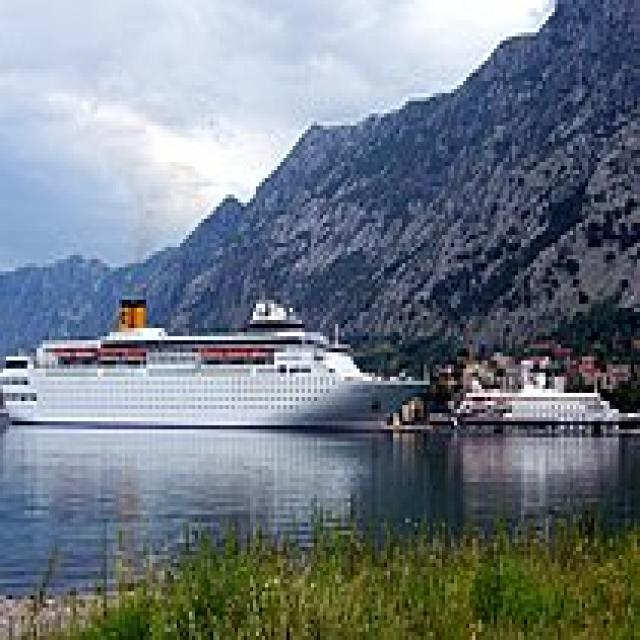Ship: (1, 289, 434, 431)
